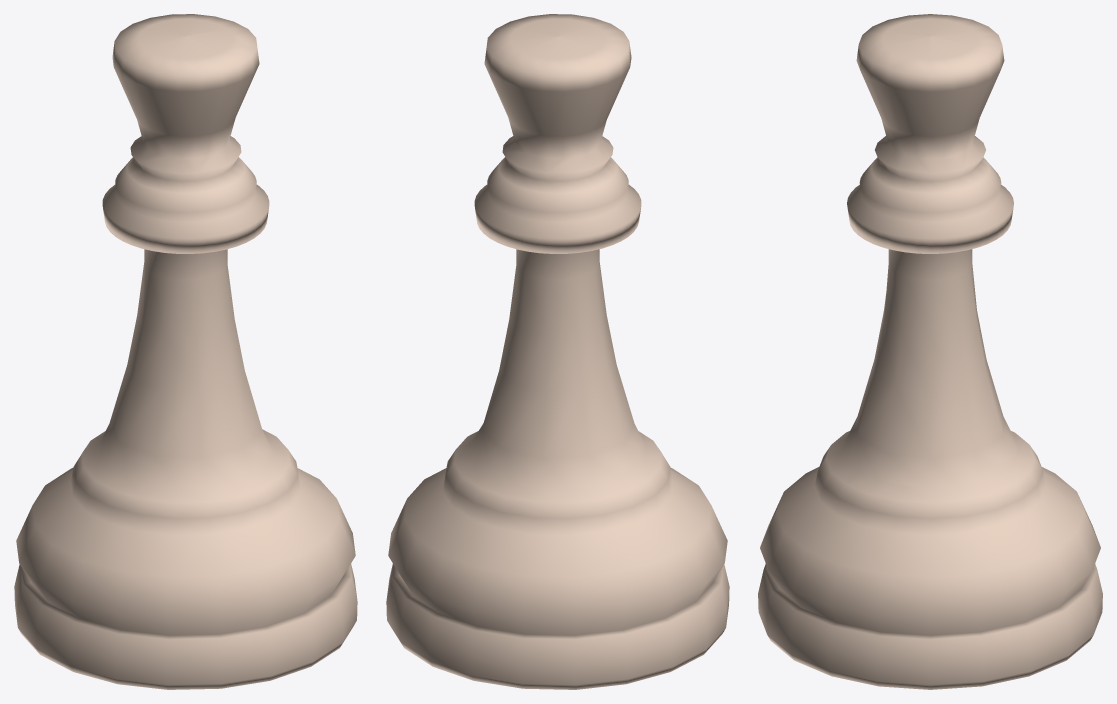
The model's file is King.fbx.
3 renders of one model, left to right at view 1: azimuth 30°, elevation 25°; view 2: azimuth 150°, elevation 25°; view 3: azimuth 270°, elevation 25°, orthographic.
Parts seen in each view (by area): view 1: King; view 2: King; view 3: King.
Boxes of the visible parts, box(x1,y1,x2,y2) form: King: box(14, 14, 357, 689); King: box(386, 14, 729, 689); King: box(758, 14, 1102, 689).
Size of the model in its own units: 4.41 by 8.23 by 4.41.
